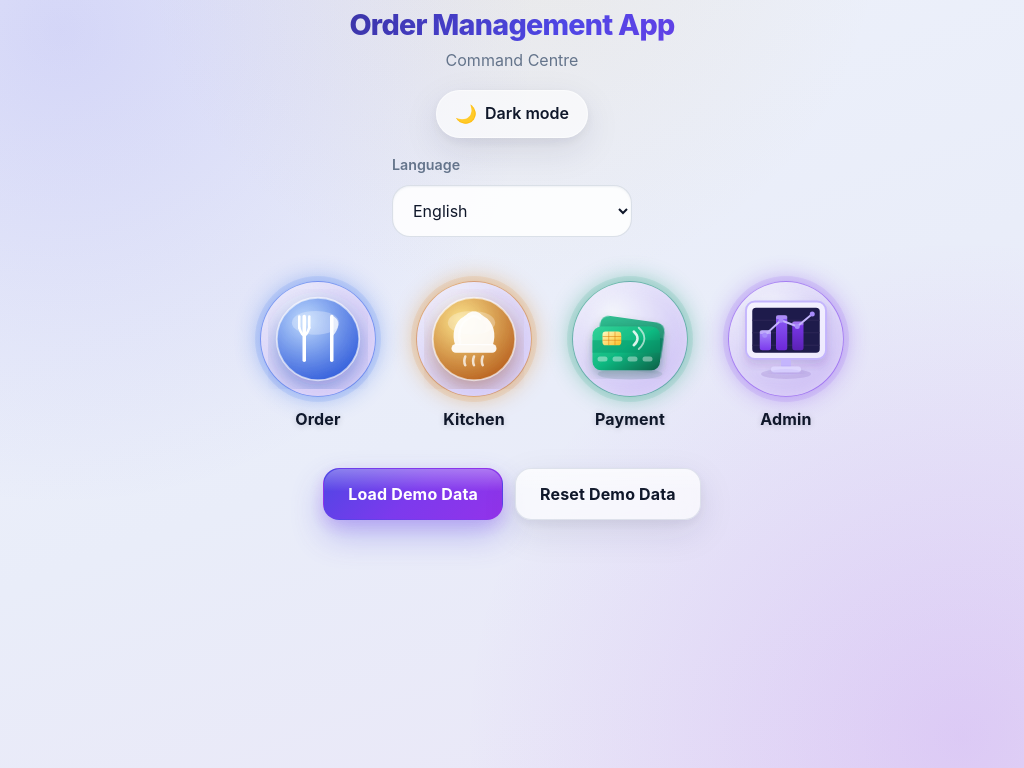
Test: RoleSelection › switches UI copy to Hindi from the language selector
Select "हिंदी" in the dropdown labelled "Language" at (512, 211), box [392,185,632,237]
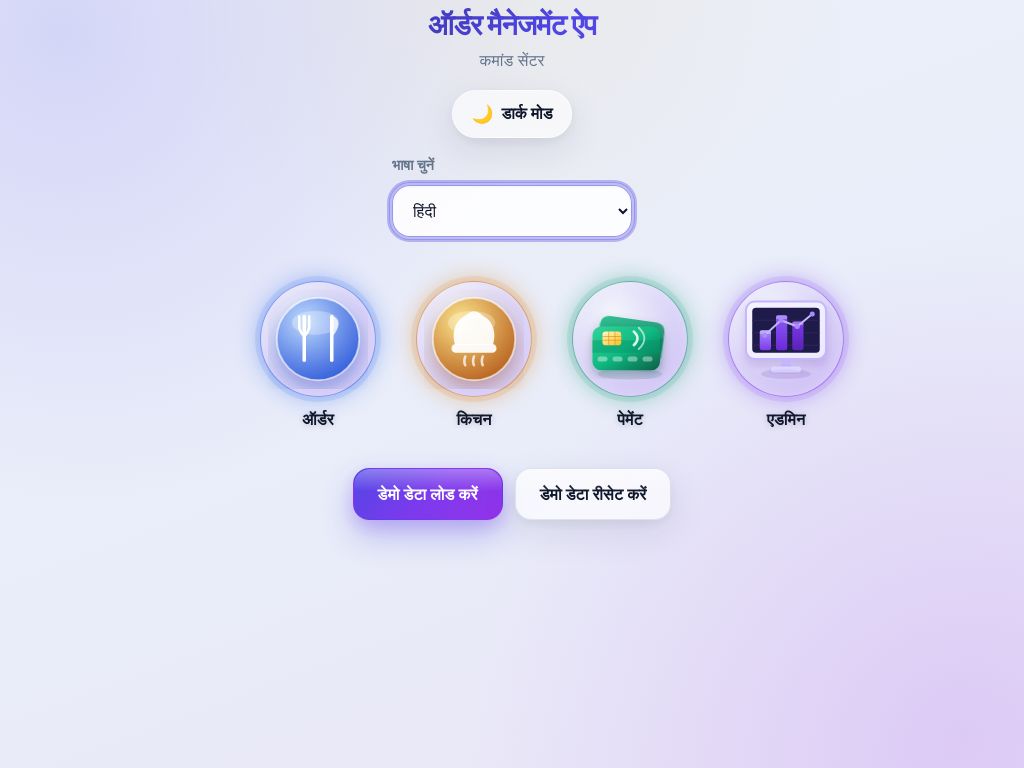
Result: the heading "ऑर्डर मैनेजमेंट ऐप" is shown at [8,8,1016,42]
Result: the text "कमांड सेंटर" is shown at [480,50,544,70]
Result: the button "डेमो डेटा लोड करें" is shown at [353,468,503,520]
